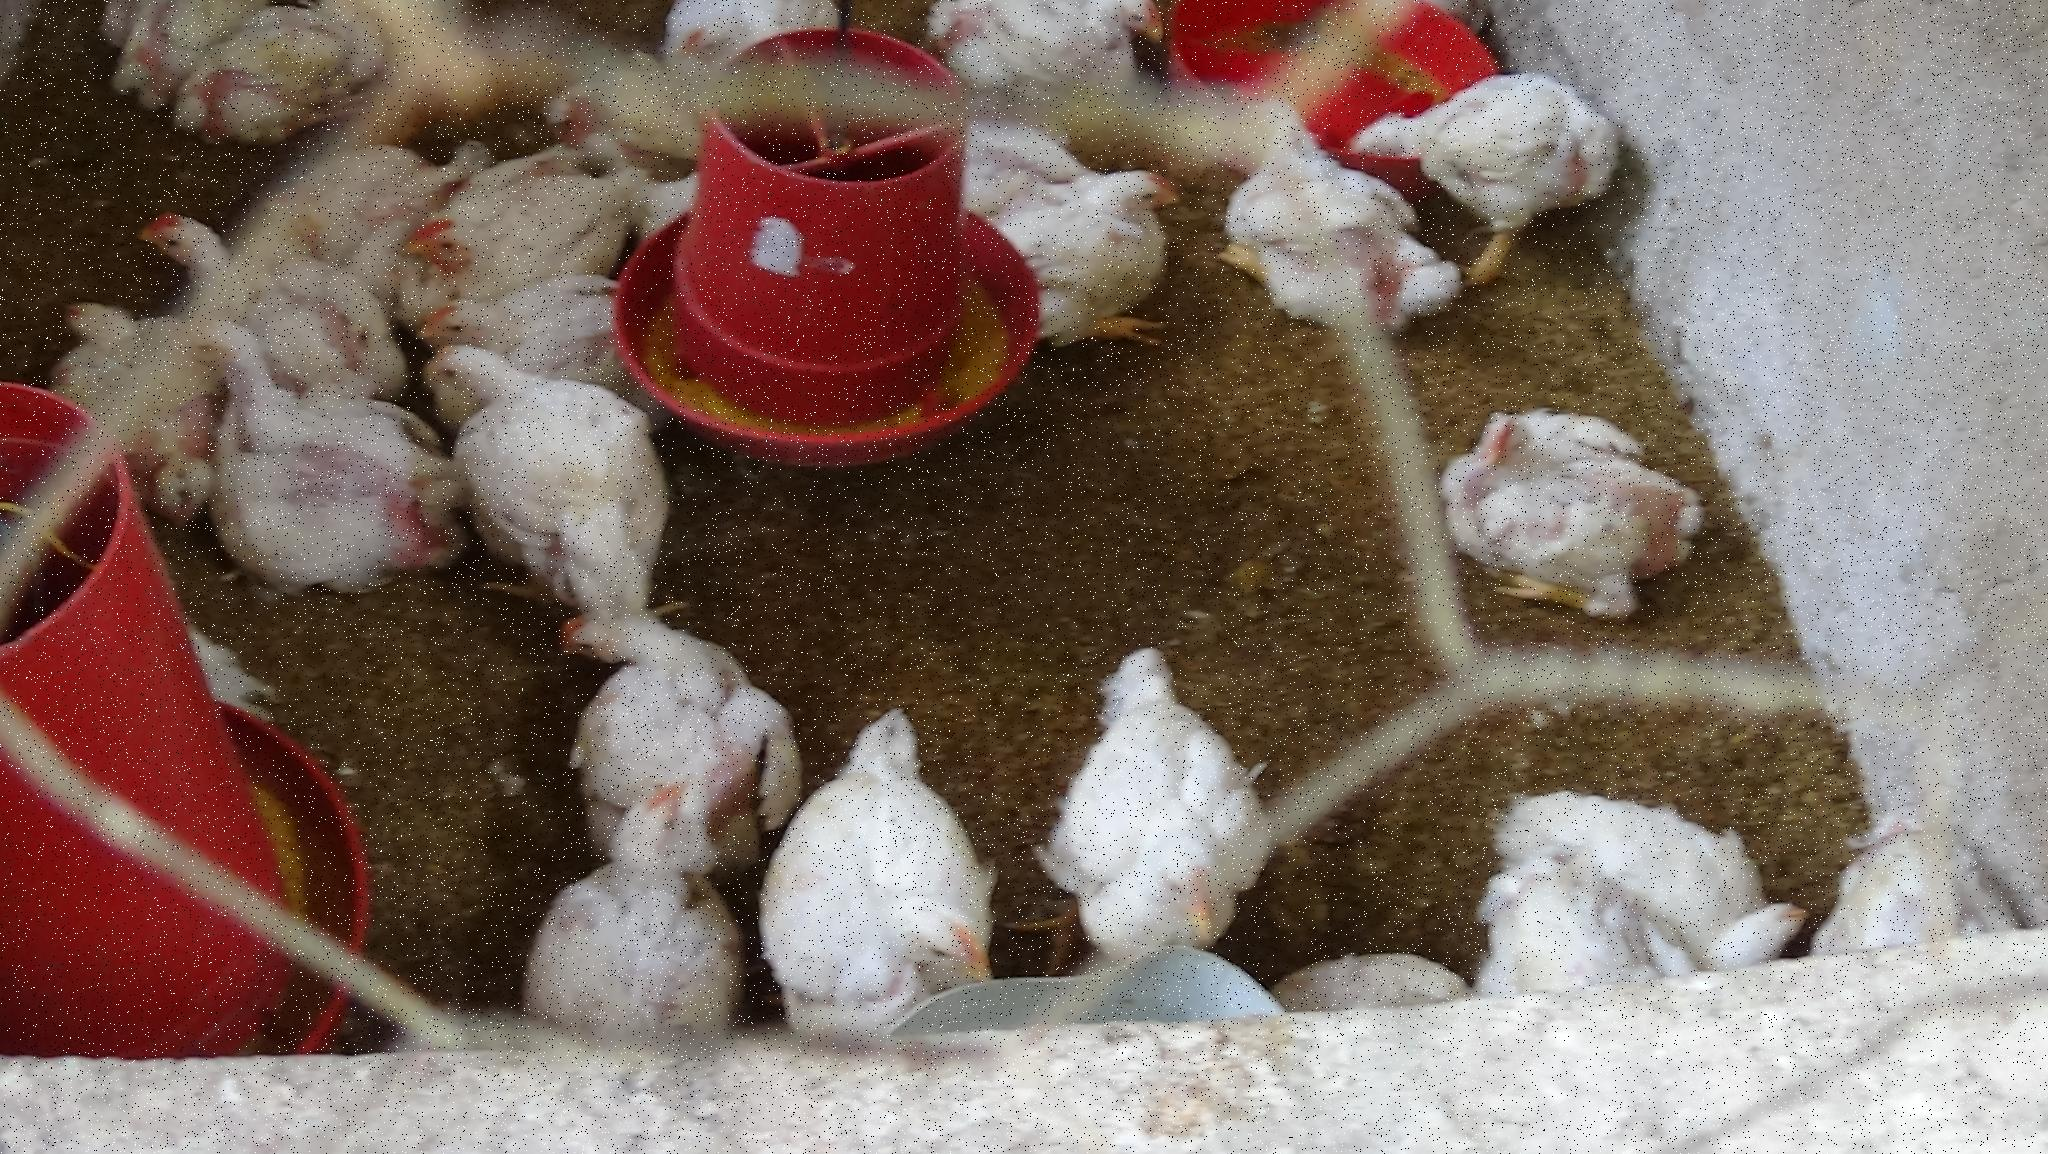Pollos: (1052, 638, 1279, 977), (177, 310, 428, 608), (1442, 386, 1743, 621), (1485, 773, 1809, 989), (774, 705, 994, 1020), (1212, 104, 1460, 350), (433, 341, 677, 587), (965, 125, 1182, 369), (513, 792, 740, 1016), (1423, 55, 1647, 266), (536, 600, 768, 801), (172, 3, 392, 158), (923, 4, 1194, 113), (660, 1, 857, 87), (134, 198, 255, 321), (49, 305, 167, 412), (418, 294, 601, 345), (407, 198, 502, 291)
